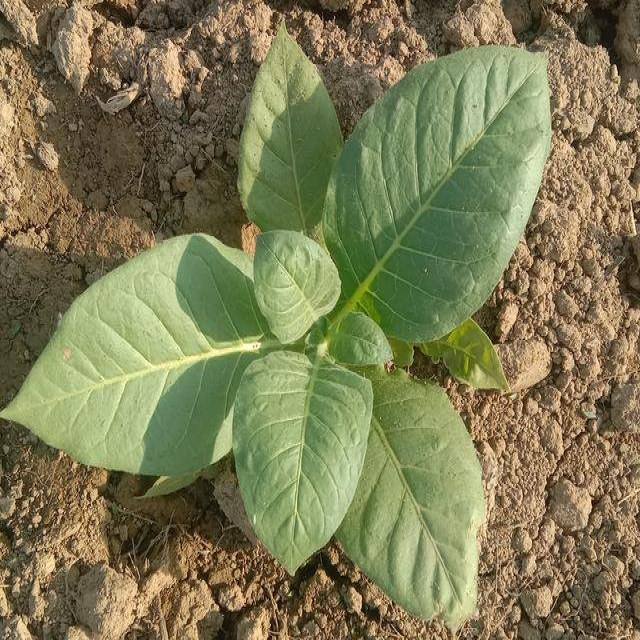crop: (1, 25, 554, 624)
